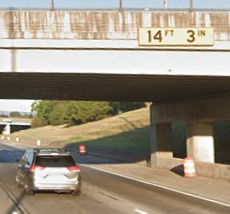1: (144, 28, 153, 46)
3: (185, 27, 196, 45)
4: (151, 28, 164, 46)
overheadsign: (137, 26, 215, 48)
